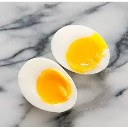begg: (17, 57, 78, 112)
